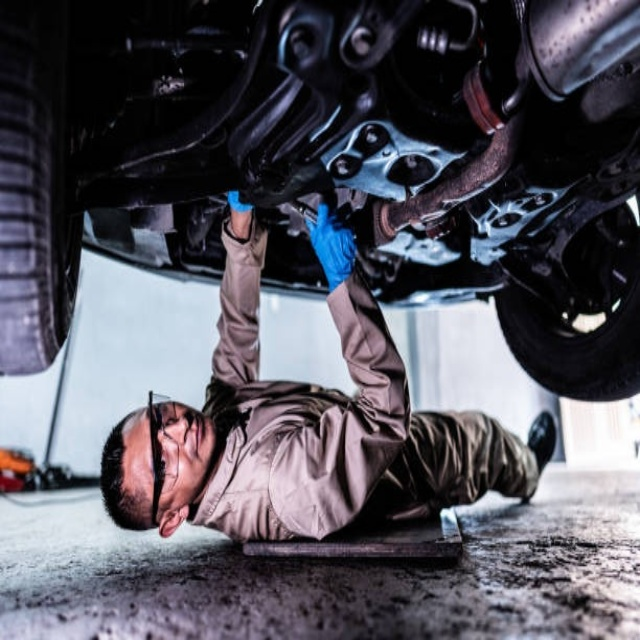Gafas: (146, 387, 181, 522)
Guantes: (302, 196, 357, 292)
Sin_mascara: (187, 405, 215, 463)
